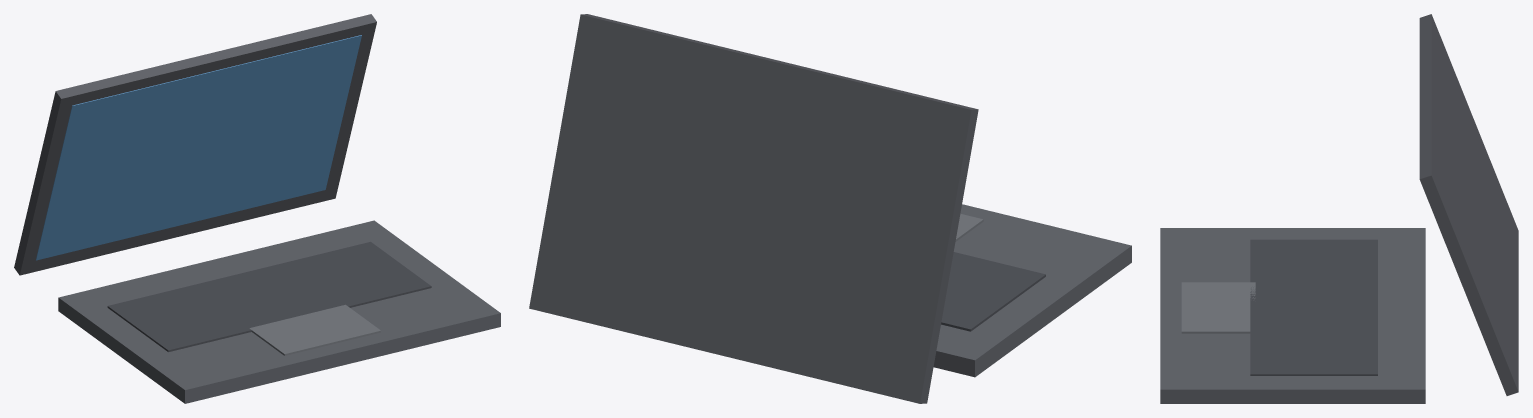
The model's file is laptop_prop.glb.
The picture shows the model from 3 angles, left to right: view 1: azimuth 30°, elevation 25°; view 2: azimuth 150°, elevation 25°; view 3: azimuth 270°, elevation 25°; orthographic projection. The views are drawn at different scales.
Visible parts, largest first — view 1: geometry_0; view 2: geometry_0; view 3: geometry_0.
Boxes of the visible parts, box(x1,y1,x2,y2) form: geometry_0: box(14, 14, 500, 403); geometry_0: box(529, 14, 1131, 403); geometry_0: box(1160, 14, 1518, 403).
Bounding box in the file's own units: 0.36 × 0.2376 × 0.3377.
